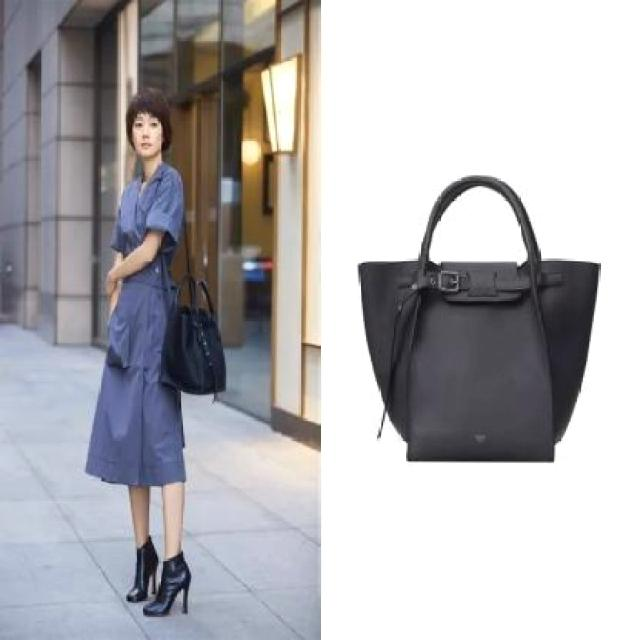face_nomask: (134, 117, 166, 165)
hand_noglove: (103, 269, 115, 297)
head_nohelmet: (123, 89, 165, 125)
person: (92, 91, 217, 614)
